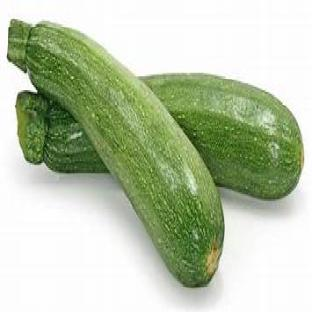Zucchini: (8, 21, 224, 286), (142, 75, 303, 199)
